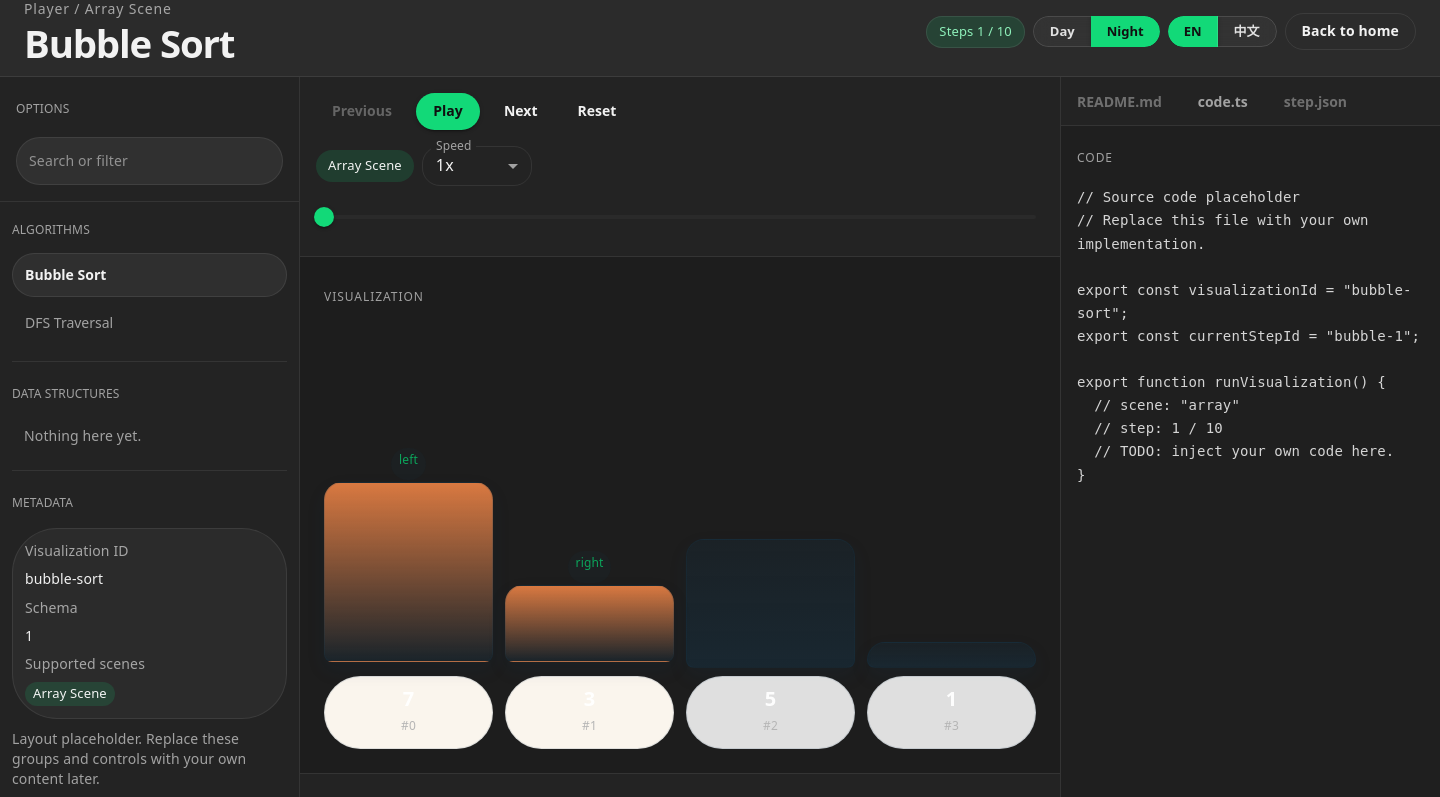
Test: app routes › loads a visualization by route param and updates copy when locale changes
This screenshot has width=1440, height=797.
Check: the heading "Bubble Sort" is shown, box [24,23,234,64]
Step 1. Click the button "中文" → (1246, 32), box [1216,16,1276,47]
(page scrolled)
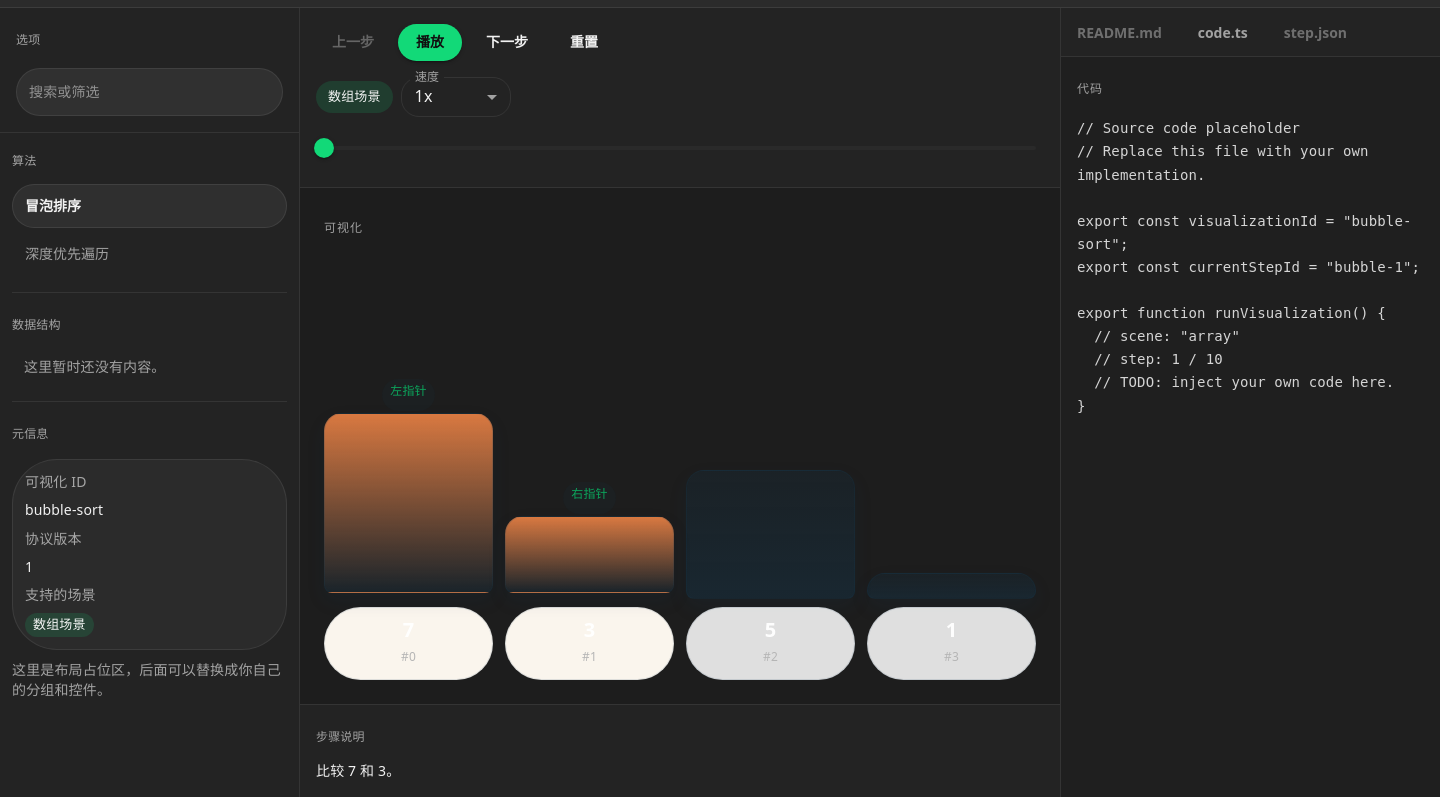
Check: the text "比较 7 和 3。" is shown, box [316,761,400,780]
